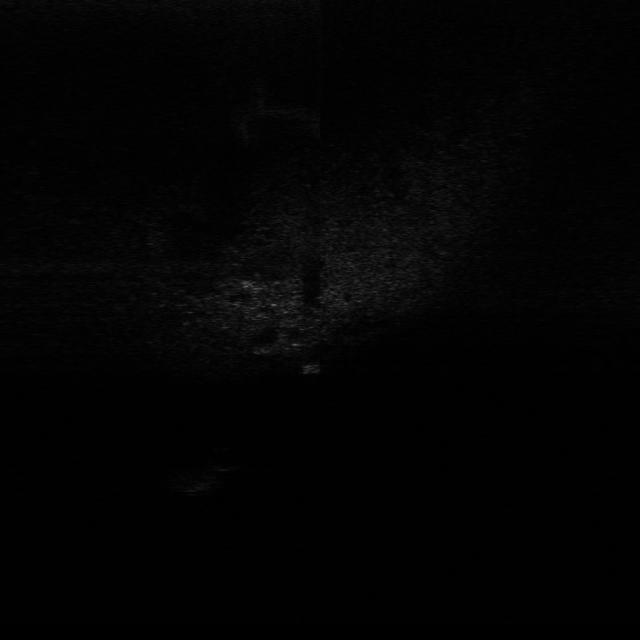ball: (213, 447, 239, 472)
circle cage: (156, 464, 228, 499)
cube: (300, 358, 324, 377)
